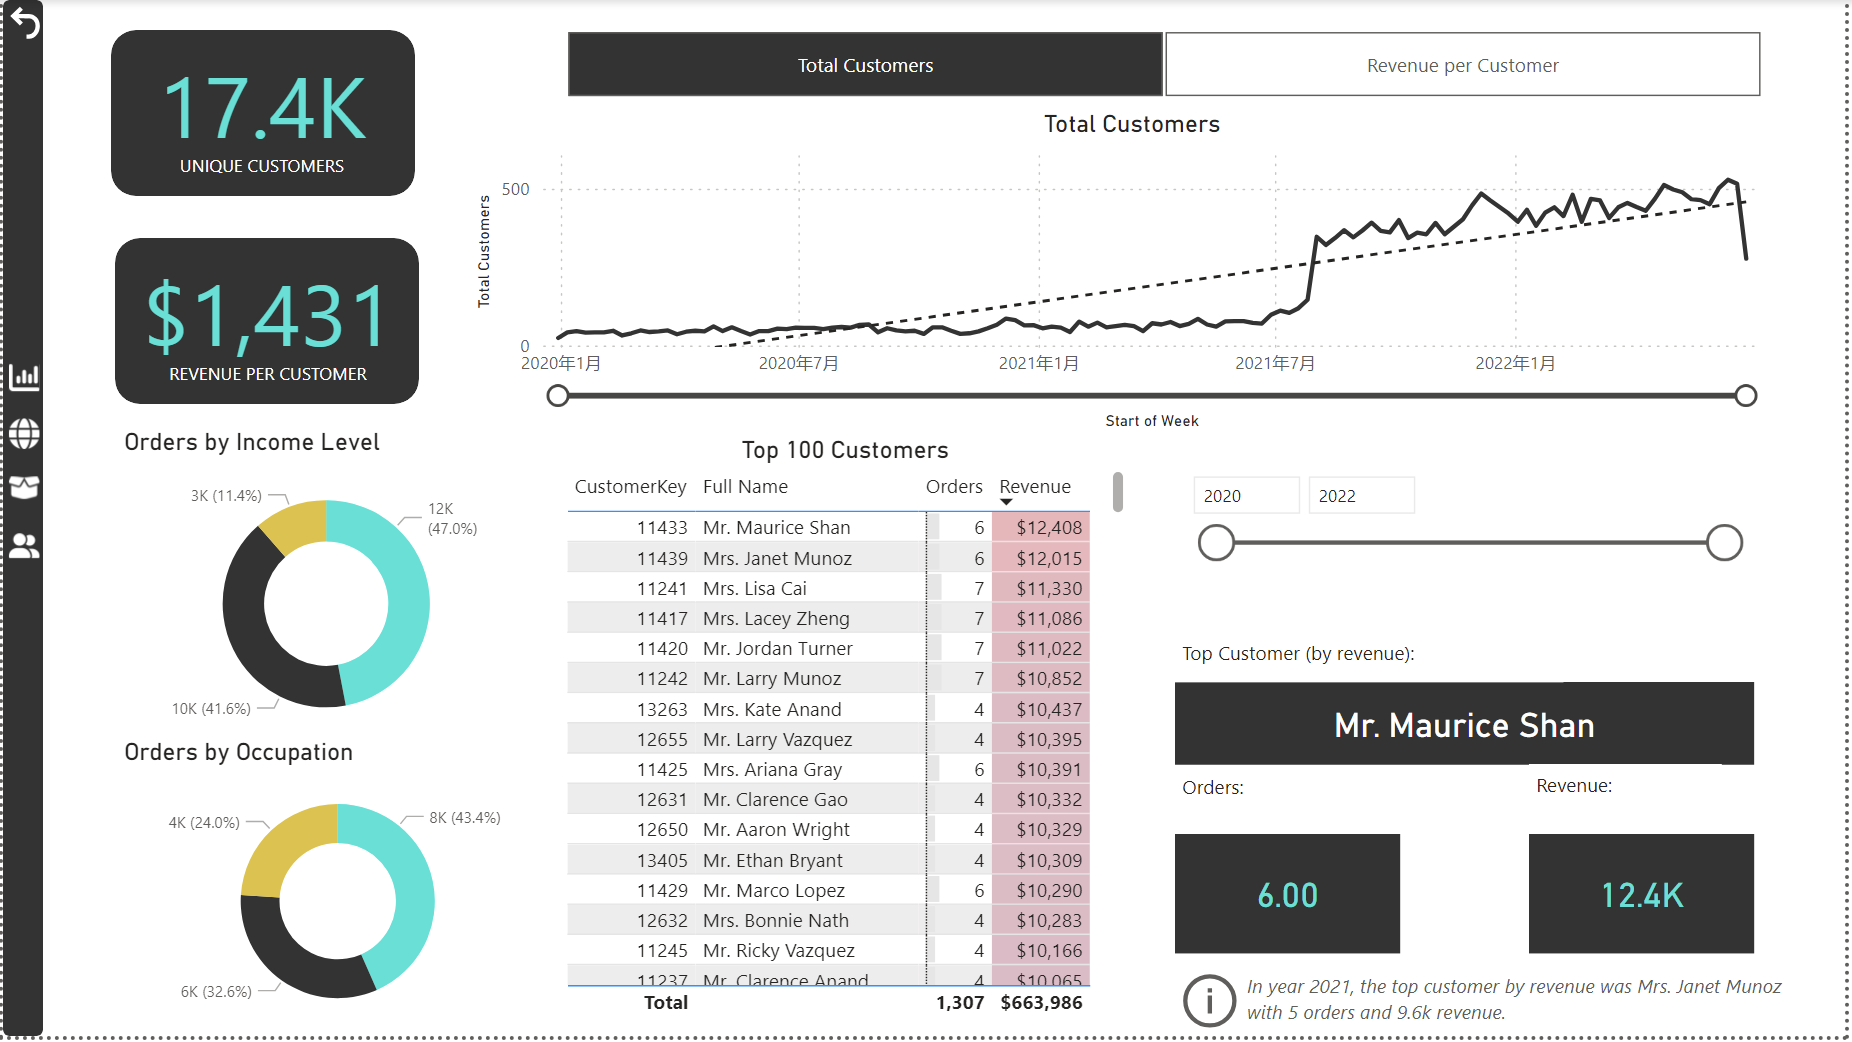

What the dashboard file says about the page in this screenshot:
{"tool":"powerbi","page":{"name":"Customer Detail","canvas":[1280,720],"ordinal":3},"visuals":[{"type":"shape","box":[0,0,27.8,720],"z":0},{"type":"actionButton","box":[0,243.6,29.5,38.5],"z":0,"group":"g1"},{"type":"shape","box":[74.8,20.3,211.3,115.4],"z":1000},{"type":"actionButton","box":[0,282.1,29.5,38.5],"z":1000,"group":"g1"},{"type":"actionButton","box":[0,320.5,29.5,38.5],"z":2000,"group":"g1"},{"type":"shape","box":[77.3,164.7,211.3,115.4],"z":2000},{"type":"card","fields":{"Values":["Measure Table.Total Customers"]},"box":[74.7,20.2,210,113.5],"z":3000},{"type":"actionButton","box":[0,360.3,29.5,38.5],"z":3000,"group":"g1"},{"type":"card","fields":{"Values":["Measure Table.Average Revenue per Customer"]},"box":[79.3,164.9,210,113.5],"z":4000},{"type":"lineChart","fields":{"Y":["Measure Table.Total Customers"],"Category":["Calendar Lookup.Date Hierarchy.Year","Calendar Lookup.Date Hierarchy.Start of Month","Calendar Lookup.Date Hierarchy.Start of Week","Calendar Lookup.Date Hierarchy.Date"]},"box":[323.3,76.7,921.7,226.7],"z":5000},{"type":"donutChart","title":"Orders by Income Level","fields":{"Y":["Measure Table.Total Orders"],"Category":["Customer Lookup.Income Level"]},"box":[79.9,297.2,290.8,225.3],"z":6000},{"type":"donutChart","title":"Orders by Occupation","fields":{"Y":["Measure Table.Total Orders"],"Category":["Customer Lookup.Occupation"]},"box":[79.9,513,306.8,207.7],"z":7000},{"type":"tableEx","title":"Top 100 Customers","fields":{"Values":["Customer Lookup.CustomerKey","Customer Lookup.Full Name","Measure Table.Total Orders","Measure Table.Total Revenue"]},"box":[386.7,303.6,397.9,407.5],"z":8000},{"type":"card","fields":{"Values":["Customer Lookup.Full Name (Customer Detail)"]},"box":[814.2,473.8,402.7,57.5],"z":9000},{"type":"card","fields":{"Values":["Measure Table.Total Orders (Customer Detail)"]},"box":[814.2,579.3,156.6,83.1],"z":10000},{"type":"card","fields":{"Values":["Measure Table.Total Revenue (Customer Detail)"]},"box":[1060.3,579.3,156.6,83.1],"z":11000},{"type":"textbox","box":[814.2,438.7,270.1,35.2],"z":12000},{"type":"textbox","box":[814.2,532.9,145.4,35.2],"z":13000},{"type":"textbox","box":[1060.3,531.3,134.2,36.8],"z":14000},{"type":"slicer","fields":{"Values":["Calendar Lookup.Year"]},"box":[815,321.2,402.7,102.3],"z":15000},{"type":"actionButton","box":[814.6,671.3,449.2,48.5],"z":16000},{"type":"actionButton","box":[0,0,74.7,31.3],"z":17000},{"type":"group","id":"g1","title":"Navigation buttons","box":[0,243.6,29.5,155.1],"z":18000},{"type":"slicer","fields":{"Values":["Customer Metric Selection.Customer Metric Selection"]},"box":[366.7,15,878.3,58.3],"z":19000}]}

Visuals, with their boxes on the page's 1280x720 design canvas (x1, y1, x2, y2). These are canvas units, not pixel positions in the 1852x1042 screenshot, which may show the page scaled, cropped or inside an application window:
shape: rect(0, 0, 28, 720)
actionButton: rect(0, 244, 30, 282)
shape: rect(75, 20, 286, 136)
actionButton: rect(0, 282, 30, 321)
actionButton: rect(0, 320, 30, 359)
shape: rect(77, 165, 289, 280)
card - Measure Table.Total Customers: rect(75, 20, 285, 134)
actionButton: rect(0, 360, 30, 399)
card - Measure Table.Average Revenue per Customer: rect(79, 165, 289, 278)
lineChart - Measure Table.Total Customers x Calendar Lookup.Date Hierarchy.Year: rect(323, 77, 1245, 303)
"Orders by Income Level" donutChart: rect(80, 297, 371, 522)
"Orders by Occupation" donutChart: rect(80, 513, 387, 721)
"Top 100 Customers" tableEx: rect(387, 304, 785, 711)
card - Customer Lookup.Full Name (Customer Detail): rect(814, 474, 1217, 531)
card - Measure Table.Total Orders (Customer Detail): rect(814, 579, 971, 662)
card - Measure Table.Total Revenue (Customer Detail): rect(1060, 579, 1217, 662)
textbox: rect(814, 439, 1084, 474)
textbox: rect(814, 533, 960, 568)
textbox: rect(1060, 531, 1194, 568)
slicer - Calendar Lookup.Year: rect(815, 321, 1218, 424)
actionButton: rect(815, 671, 1264, 720)
actionButton: rect(0, 0, 75, 31)
"Navigation buttons" group: rect(0, 244, 30, 399)
slicer - Customer Metric Selection.Customer Metric Selection: rect(367, 15, 1245, 73)
